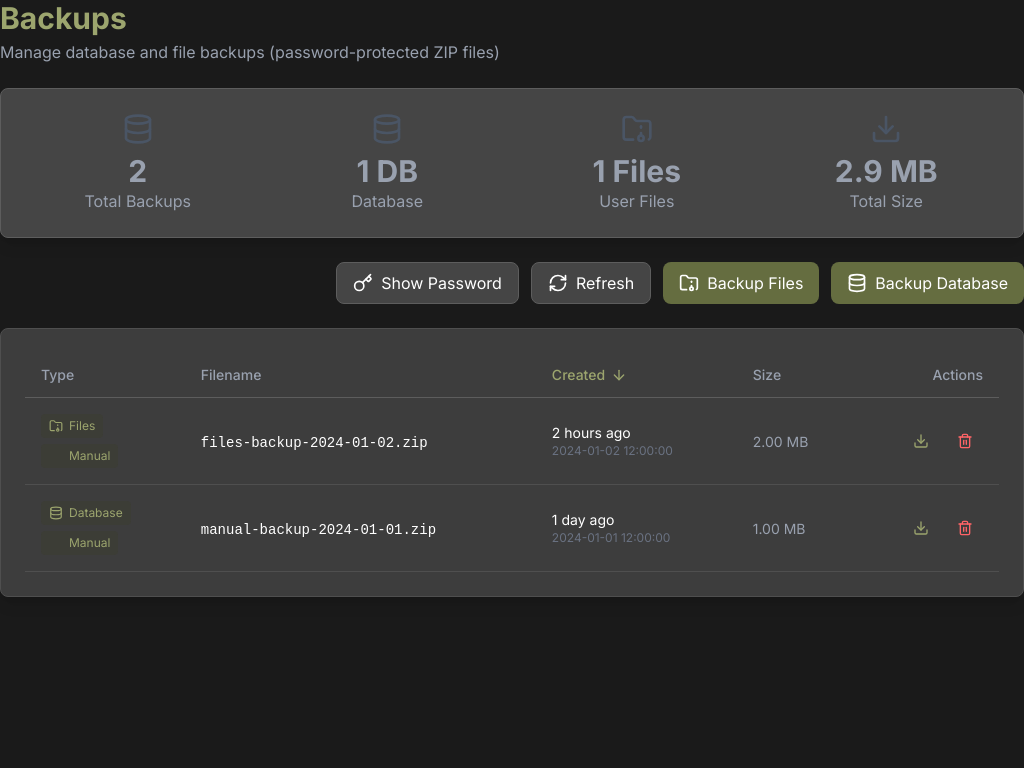
Scenario: BackupsManagement › Deleting backups › should close modal when cancel is clicked
Expected: the text "manual-backup-2024-01-01.zip" is shown, [201,522,436,538]
Click the button titled "Delete backup" in the row of "files-backup-2024-01-02.zip". click: (965, 441)
box: [947,423,983,459]
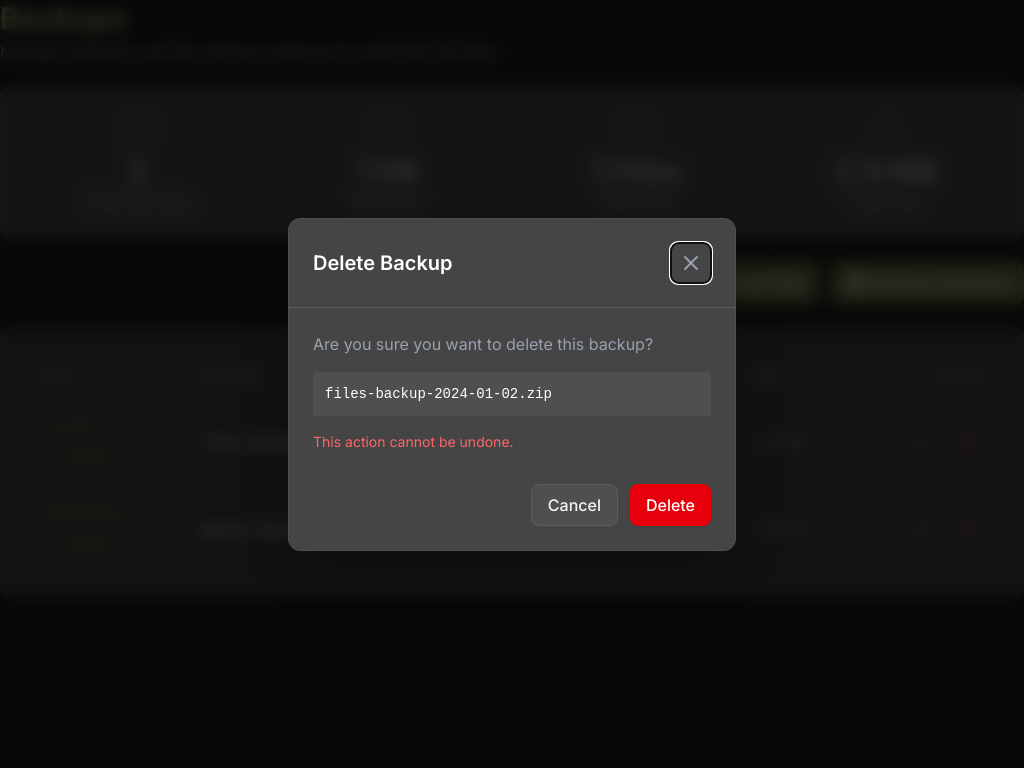
Click the button "Cancel". click: (574, 504)
box: [531,484,618,526]
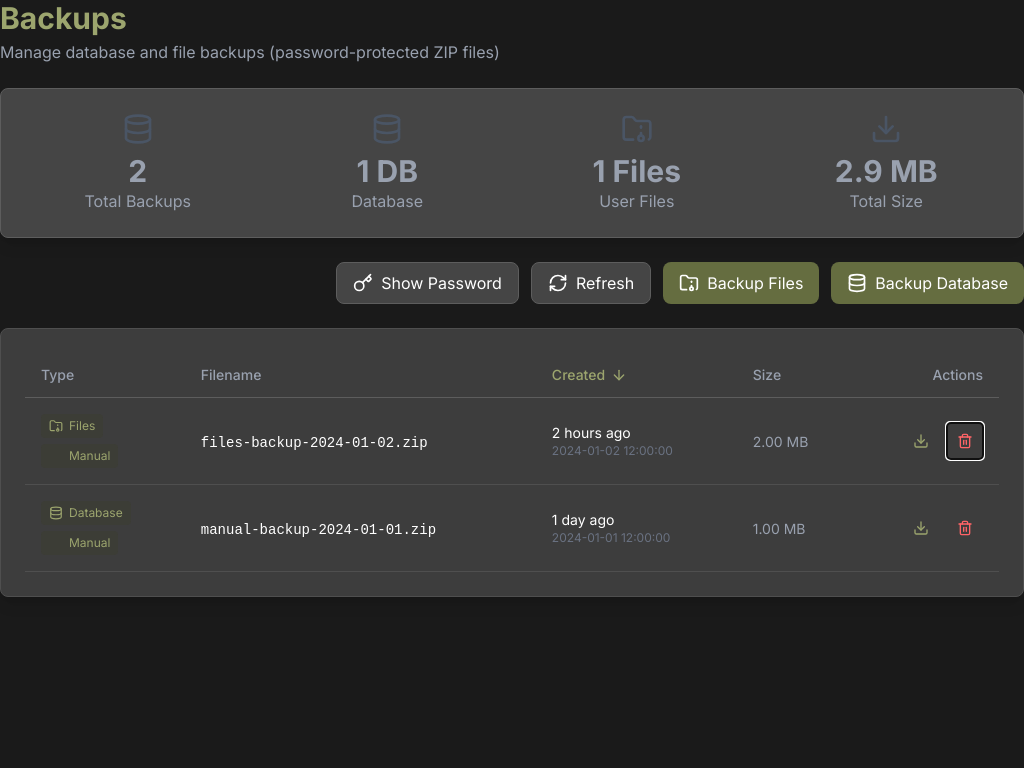
Expected: the heading "Delete Backup" is gone
